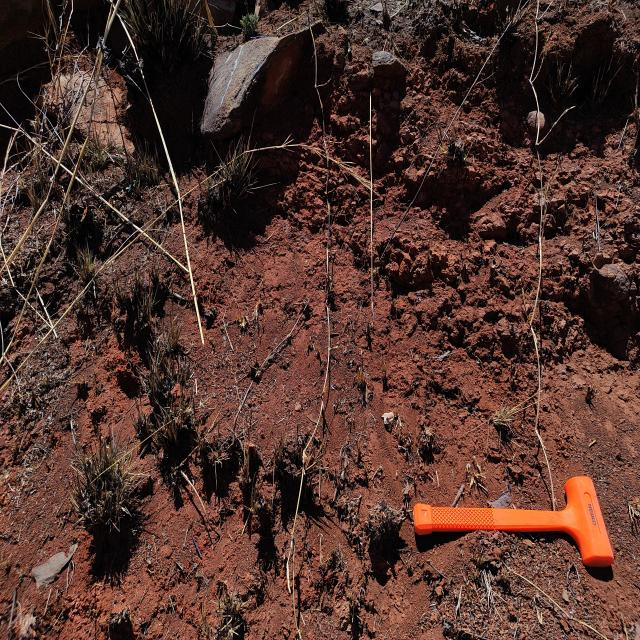Orange_hammer: (412, 474, 614, 569)
